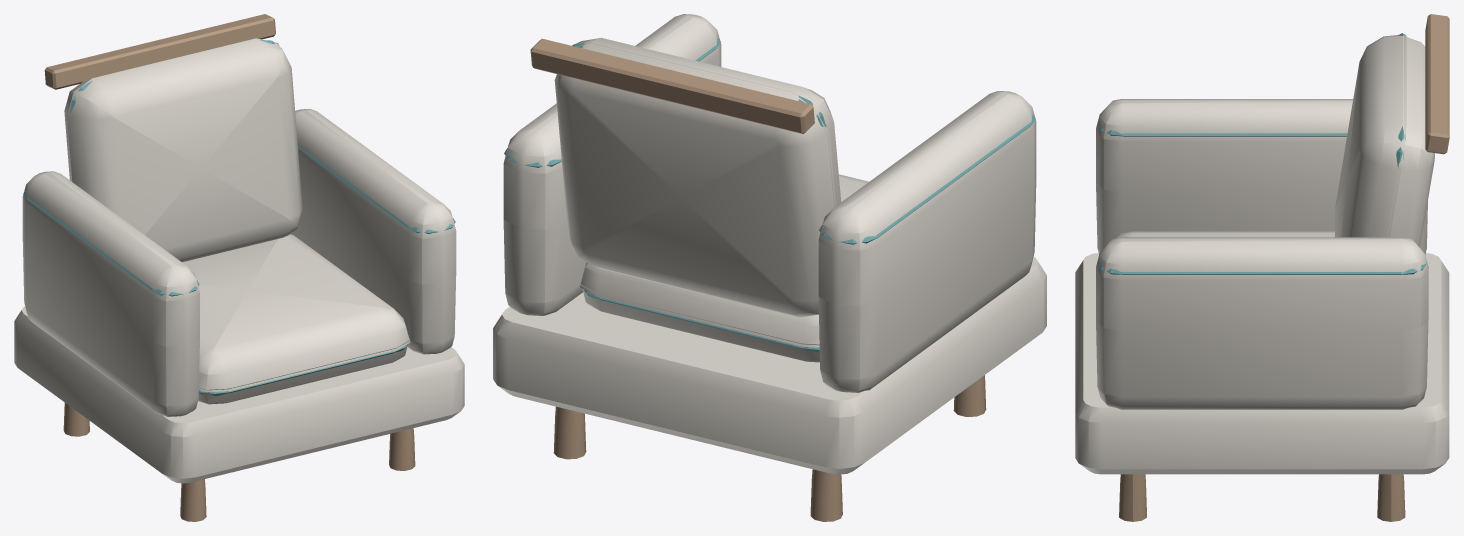
Rendered from lobby-armchair-cc0.glb.
The picture shows the model from 3 angles, left to right: view 1: azimuth 30°, elevation 25°; view 2: azimuth 150°, elevation 25°; view 3: azimuth 270°, elevation 25°; orthographic projection. The views are drawn at different scales.
Parts seen in each view (by area): view 1: lobby-armchair; view 2: lobby-armchair; view 3: lobby-armchair.
Part boxes in pixels (x1,y1,x2,y2): lobby-armchair: (14, 14, 464, 521); lobby-armchair: (493, 14, 1046, 521); lobby-armchair: (1075, 14, 1449, 521).
Bounding box in the file's own units: 0.868 × 0.9573 × 0.8413.
